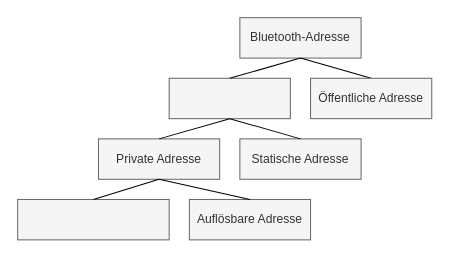
This 449x258 diagram has some shape labels left out. Each missing label, with the centre of its shape:
"Nicht auflösbare Adresse" goes at (93,219).
"Zufällige Adresse" goes at (229,98).
